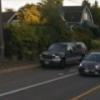cars: (40, 43, 88, 68), (79, 55, 100, 75)
